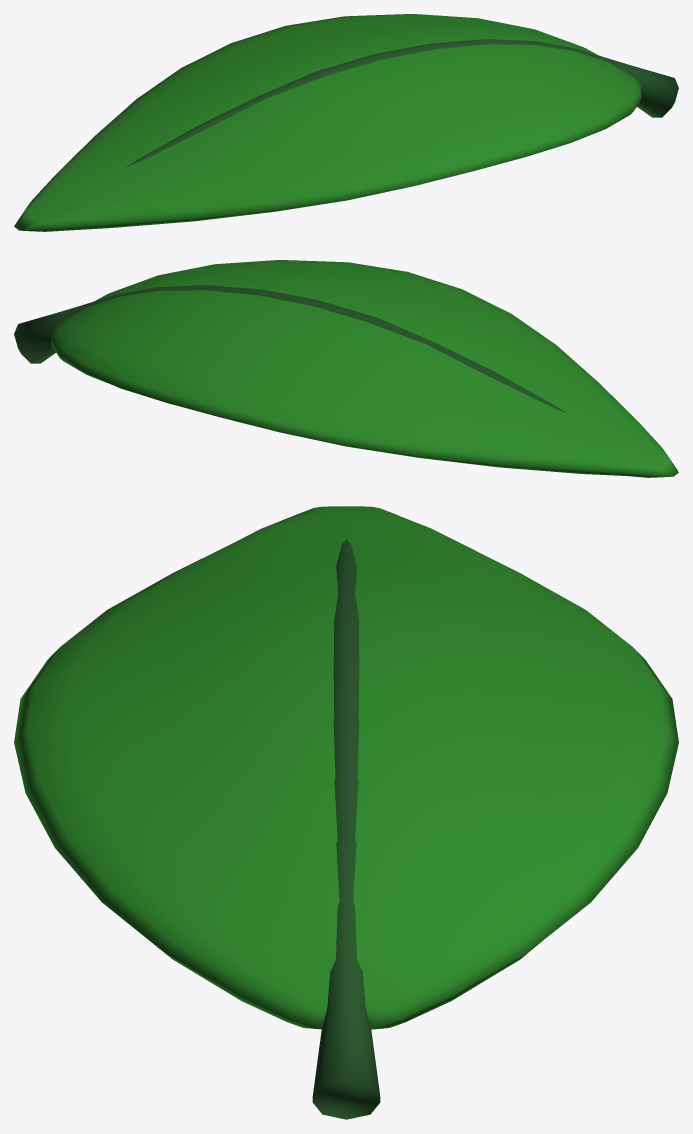
File: leaf1-source.glb
The picture shows the model from 3 angles, top to bottom: view 1: azimuth 30°, elevation 25°; view 2: azimuth 150°, elevation 25°; view 3: azimuth 270°, elevation 25°; orthographic projection. The views are drawn at different scales.
Visible parts, largest first — view 1: Cube.001; view 2: Cube.001; view 3: Cube.001.
Boxes of the visible parts, x1,y1,x2,y2 form: Cube.001: [14, 14, 678, 231]; Cube.001: [14, 260, 678, 477]; Cube.001: [14, 506, 678, 1119].
Bounding box in the file's own units: 3.86 × 0.7312 × 1.95.
